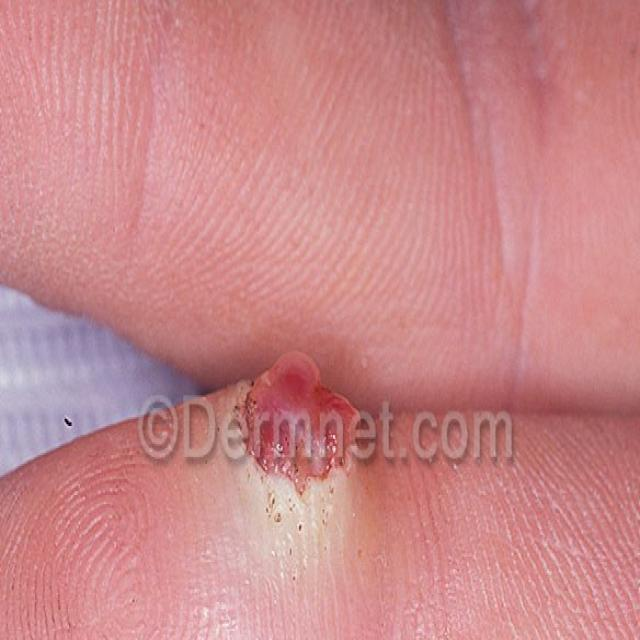Vascular Tumors: (211, 333, 375, 510)
